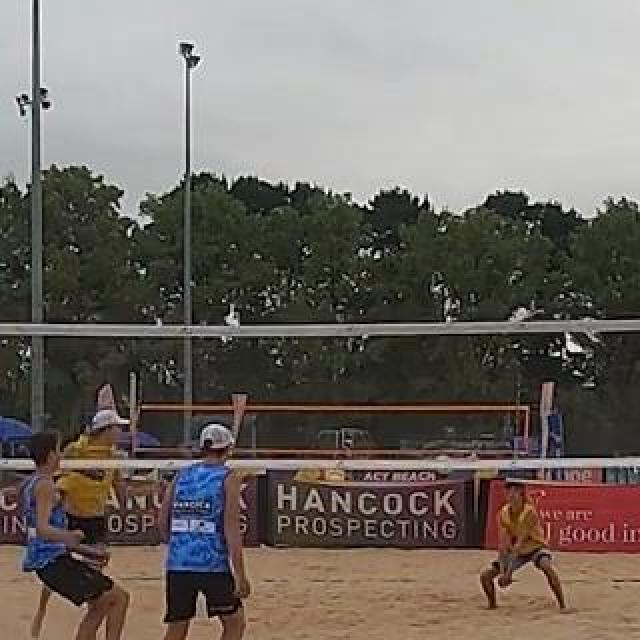volleyball: (433, 454, 455, 480)
